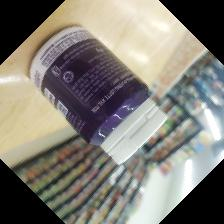Xylitol_BTS: (27, 24, 168, 165)
